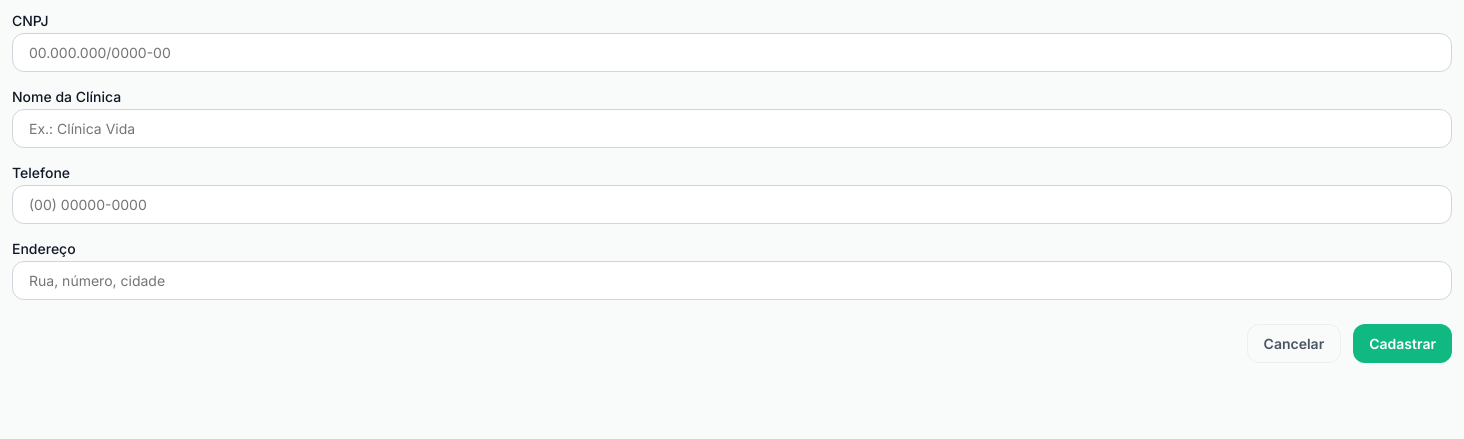
Scenario: ClinicForm › exibe erro global quando não há fieldErrors e preserva os dados
Type "Clínica Vida" into the field labelled "Nome da Clínica" at (732, 128), box [12,109,1452,148]
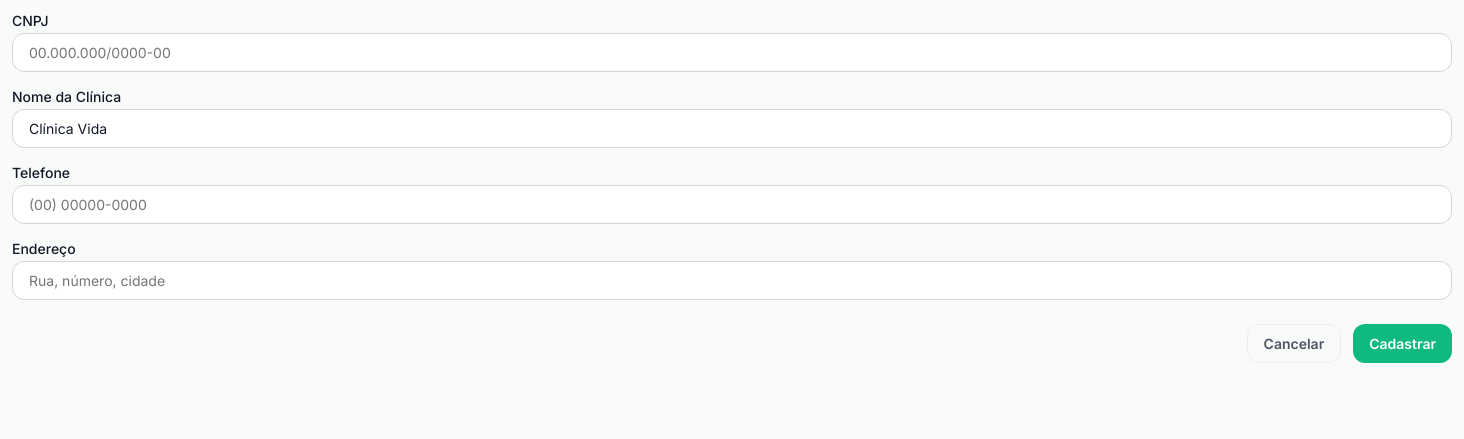
Type "11.444.777/0001-61" into the field labelled "CNPJ" at (732, 52), box [12,33,1452,72]
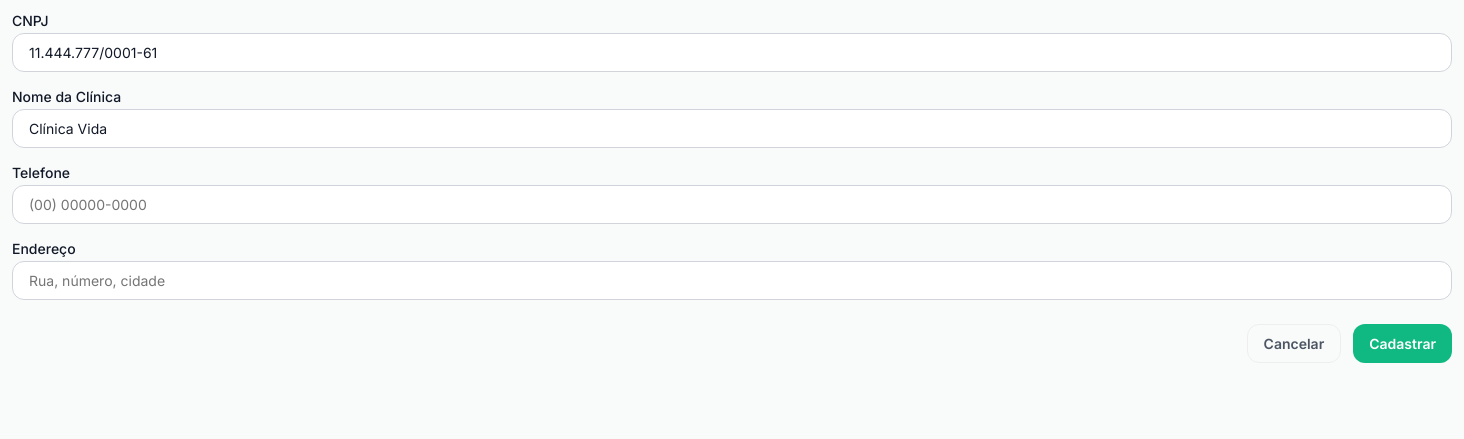
Click the button "Cadastrar" at (1403, 344), box [1353,324,1452,363]
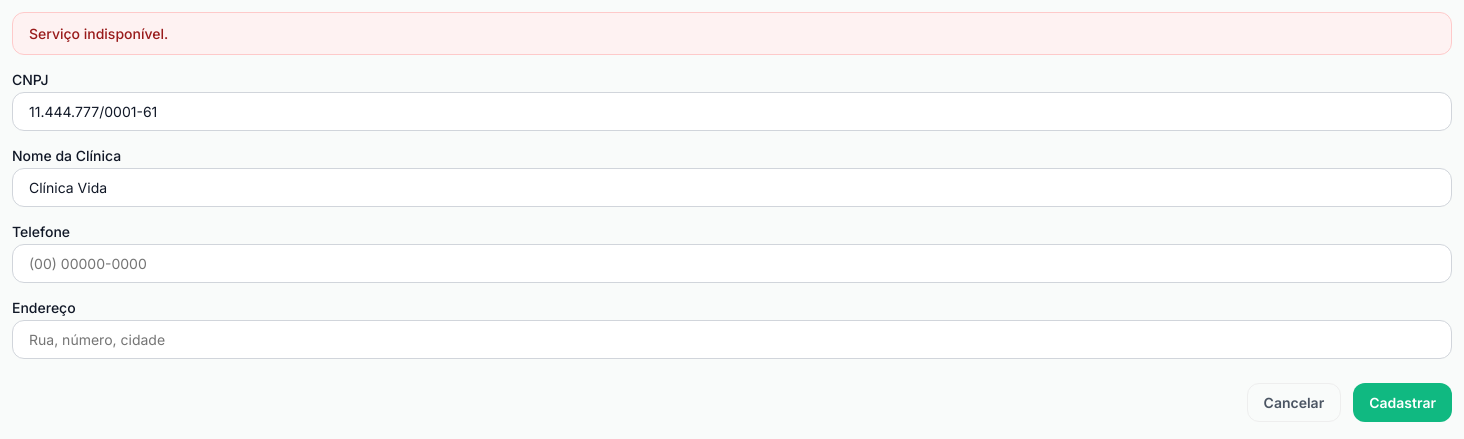
Now the text "Serviço indisponível." is shown, box [12,12,1452,55]
